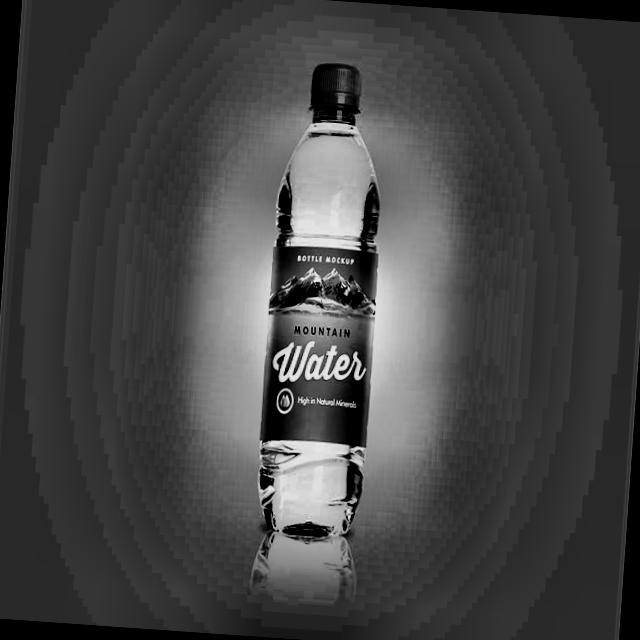waterbottle: (244, 40, 398, 552)
